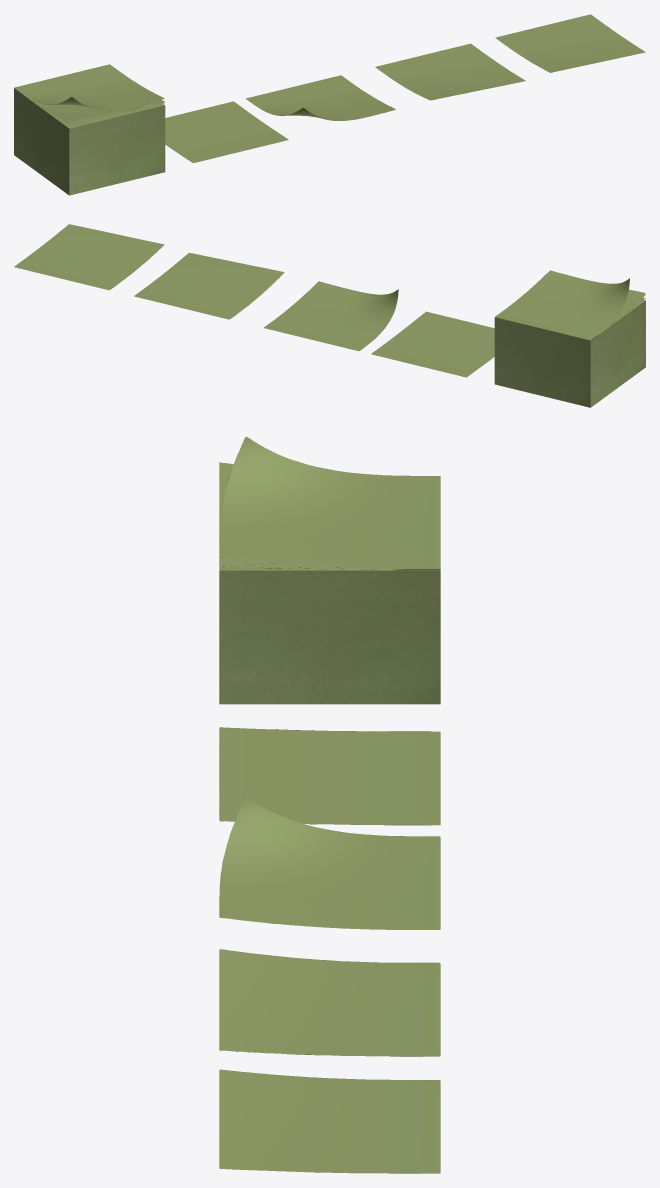
File: stickyNotes_ST3ZSPN.obj
3 views of the same model, one above another, from view 1: azimuth 30°, elevation 25°; view 2: azimuth 150°, elevation 25°; view 3: azimuth 270°, elevation 25° (orthographic). The views are drawn at different scales.
Visible parts, largest first — view 1: stickyNotes_stack, stickyNotes_sheet_08, stickyNotes_sheet_07, stickyNotes_sheet_05, stickyNotes_sheet_04, stickyNotes_sheet_06, stickyNotes_sheet_03, stickyNotes_sheet_01; view 2: stickyNotes_stack, stickyNotes_sheet_07, stickyNotes_sheet_04, stickyNotes_sheet_06, stickyNotes_sheet_08, stickyNotes_sheet_05, stickyNotes_sheet_03; view 3: stickyNotes_stack, stickyNotes_sheet_04, stickyNotes_sheet_06, stickyNotes_sheet_07, stickyNotes_sheet_08, stickyNotes_sheet_05, stickyNotes_sheet_03.
Boxes of the visible parts, left/top/right/bottom form: stickyNotes_stack: left=14, top=88, right=165, bottom=195; stickyNotes_sheet_08: left=495, top=14, right=645, bottom=72; stickyNotes_sheet_07: left=375, top=43, right=525, bottom=100; stickyNotes_sheet_05: left=165, top=101, right=288, bottom=162; stickyNotes_sheet_04: left=14, top=64, right=164, bottom=110; stickyNotes_sheet_06: left=245, top=75, right=395, bottom=120; stickyNotes_sheet_03: left=14, top=88, right=164, bottom=121; stickyNotes_sheet_01: left=14, top=88, right=164, bottom=126; stickyNotes_stack: left=494, top=300, right=645, bottom=407; stickyNotes_sheet_07: left=134, top=252, right=284, bottom=319; stickyNotes_sheet_04: left=495, top=270, right=629, bottom=340; stickyNotes_sheet_06: left=264, top=281, right=398, bottom=351; stickyNotes_sheet_08: left=14, top=224, right=164, bottom=290; stickyNotes_sheet_05: left=371, top=311, right=494, bottom=377; stickyNotes_sheet_03: left=497, top=289, right=645, bottom=340; stickyNotes_stack: left=219, top=566, right=440, bottom=704; stickyNotes_sheet_04: left=219, top=436, right=440, bottom=569; stickyNotes_sheet_06: left=219, top=797, right=440, bottom=929; stickyNotes_sheet_07: left=219, top=949, right=440, bottom=1056; stickyNotes_sheet_08: left=219, top=1069, right=440, bottom=1173; stickyNotes_sheet_05: left=219, top=727, right=440, bottom=825; stickyNotes_sheet_03: left=219, top=462, right=440, bottom=569.
Bounding box in the file's own units: 45.11 × 6.86 × 7.5.
Materials: 1 (1 with a texture image).
